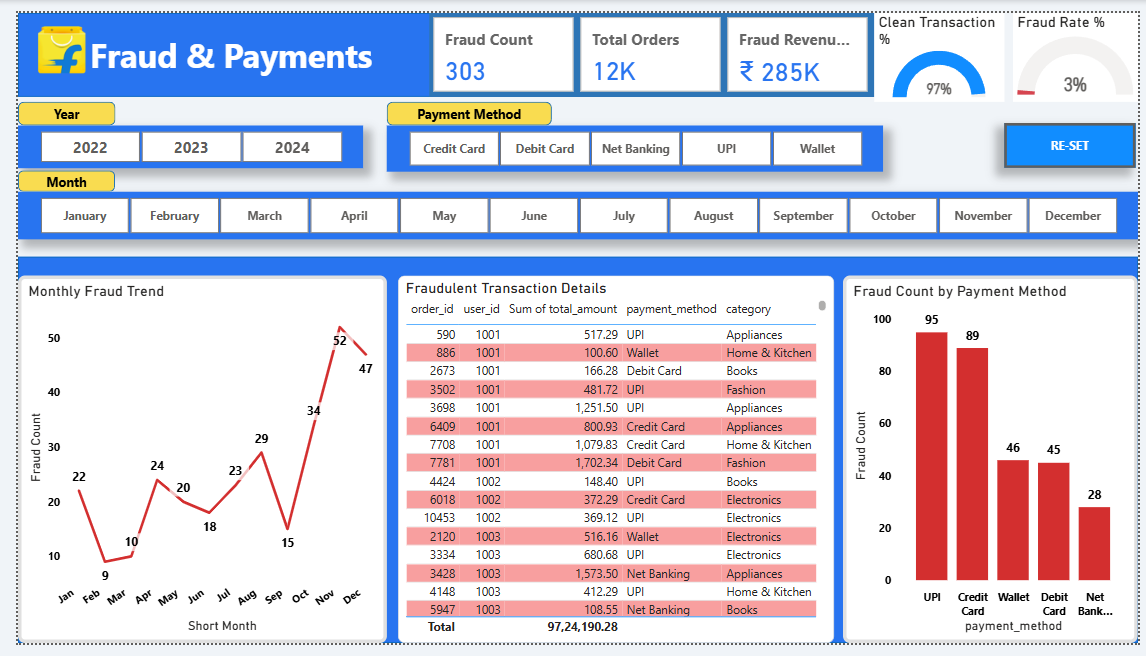

What the dashboard file says about the page in this screenshot:
{"tool":"powerbi","page":{"name":"Fraud & Payments","canvas":[1280,720],"ordinal":2},"visuals":[{"type":"shape","box":[0,278.6,1280,441.4],"z":0},{"type":"shape","box":[0,0,487.1,95.7],"z":1000},{"type":"image","box":[0,0,100,84.3],"z":2000},{"type":"columnChart","title":"Fraud Count by Payment Method","fields":{"Category":["fact_payments.payment_method"],"Y":["Fraud_measures.Fraud Count"]},"box":[942.9,300,337.1,420],"z":3000},{"type":"tableEx","title":"Fraudulent Transaction Details","fields":{"Values":["fact_orders.order_id","fact_orders.user_id","Sum(fact_orders.total_amount)","fact_payments.payment_method","dim_products.category"]},"box":[434.3,300,498.6,420],"z":4000},{"type":"cardVisual","fields":{"Data":["Fraud_measures.Fraud Count","Order_measures.Total Orders","Fraud_measures.Fraud Revenue at Risk"]},"box":[470,0,508.6,95.7],"z":5000},{"type":"actionButton","box":[1127.1,125.7,150,51.4],"z":6000},{"type":"lineClusteredColumnComboChart","title":"Monthly Fraud Trend","fields":{"Y2":["Fraud_measures.Fraud Count"],"Category":["Date_Table.Short Month"]},"box":[0,300,421.4,420],"z":7000},{"type":"gauge","fields":{"Y":["Fraud_measures.Fraud Rate %"]},"box":[1137.1,0,142.9,101.4],"z":8000},{"type":"gauge","fields":{"Y":["Fraud_measures.Clean Transaction %"]},"box":[978.6,0,148.6,101.4],"z":9000},{"type":"slicer","fields":{"Values":["Date_Table.Month Name"]},"box":[0,204.3,1280,54.3],"z":10000},{"type":"slicer","fields":{"Values":["Date_Table.Year"]},"box":[0,128.6,394.3,48.6],"z":11000},{"type":"slicer","fields":{"Values":["fact_payments.payment_method"]},"box":[421.4,128.6,567.1,52.9],"z":12000},{"type":"shape","box":[0,101.4,111.4,27.1],"z":13000},{"type":"shape","box":[0,179.7,110.8,24.3],"z":14000},{"type":"shape","box":[421.4,101.4,188.6,27.1],"z":15000}]}

Visuals, with their boxes in screenshot pixels (x1, y1, x2, y2), scaled from the page's 1280x720 canvas onto the 1146x656 screenshot:
shape: [0, 254, 1145, 655]
shape: [0, 0, 436, 87]
image: [0, 0, 90, 77]
"Fraud Count by Payment Method" columnChart: [844, 273, 1145, 655]
"Fraudulent Transaction Details" tableEx: [389, 273, 835, 655]
cardVisual - Fraud_measures.Fraud Count x Order_measures.Total Orders: [421, 0, 876, 87]
actionButton: [1009, 115, 1143, 161]
"Monthly Fraud Trend" lineClusteredColumnComboChart: [0, 273, 377, 655]
gauge - Fraud_measures.Fraud Rate %: [1018, 0, 1145, 92]
gauge - Fraud_measures.Clean Transaction %: [876, 0, 1009, 92]
slicer - Date_Table.Month Name: [0, 186, 1145, 236]
slicer - Date_Table.Year: [0, 117, 353, 161]
slicer - fact_payments.payment_method: [377, 117, 885, 165]
shape: [0, 92, 100, 117]
shape: [0, 164, 99, 186]
shape: [377, 92, 546, 117]
